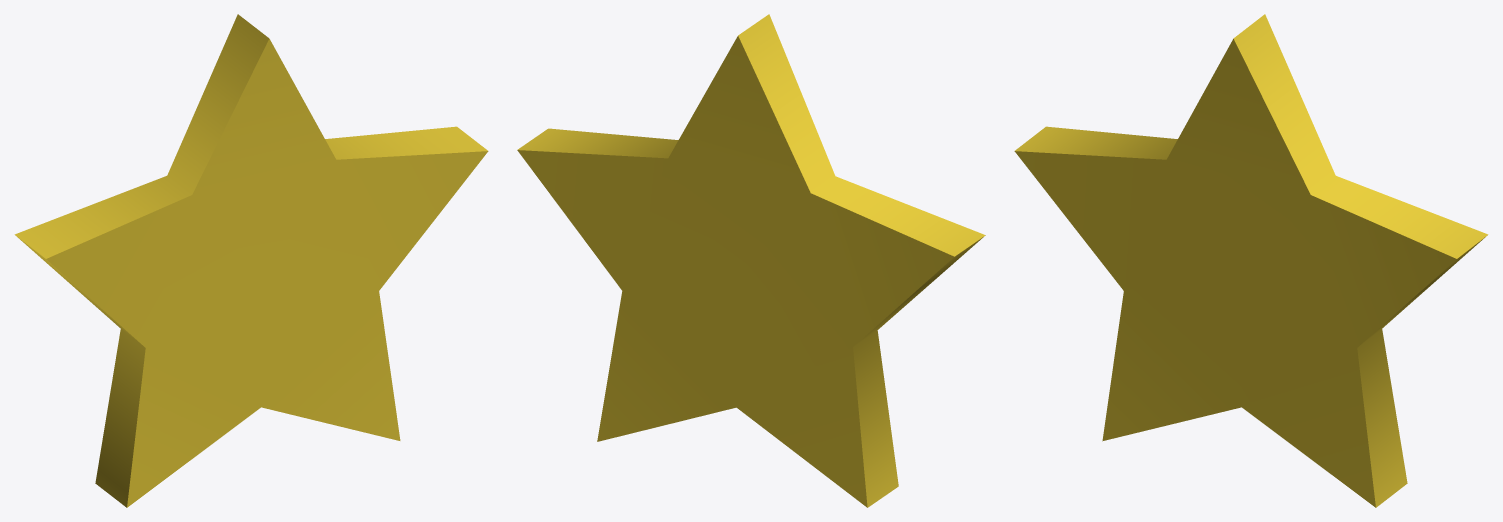
File: Star.fbx
3 renders of one model, left to right at view 1: azimuth 30°, elevation 25°; view 2: azimuth 150°, elevation 25°; view 3: azimuth 330°, elevation 25°, orthographic.
Parts seen in each view (by area): view 1: pCylinder11; view 2: pCylinder11; view 3: pCylinder11.
Part boxes in pixels (x1,y1,x2,y2): pCylinder11: [14, 14, 488, 507]; pCylinder11: [517, 14, 985, 507]; pCylinder11: [1014, 14, 1488, 507].
Bounding box in the file's own units: 0.2999 × 0.286 × 0.0438.
